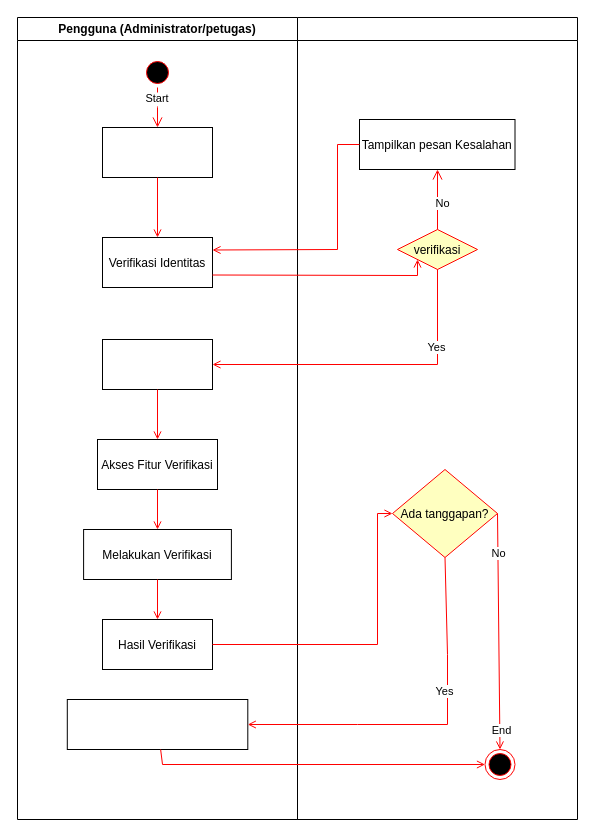
Image size: 595x837. Some labels were removed from this diagram. The box of each missing label's shape, as (x1, y1, x2, y2) in pixels:
login: (102, 126, 212, 178)
Melakukan input tanggapan: (66, 698, 248, 750)
Menuju Menu Utama: (102, 338, 212, 390)
Sistem: (296, 16, 578, 820)
